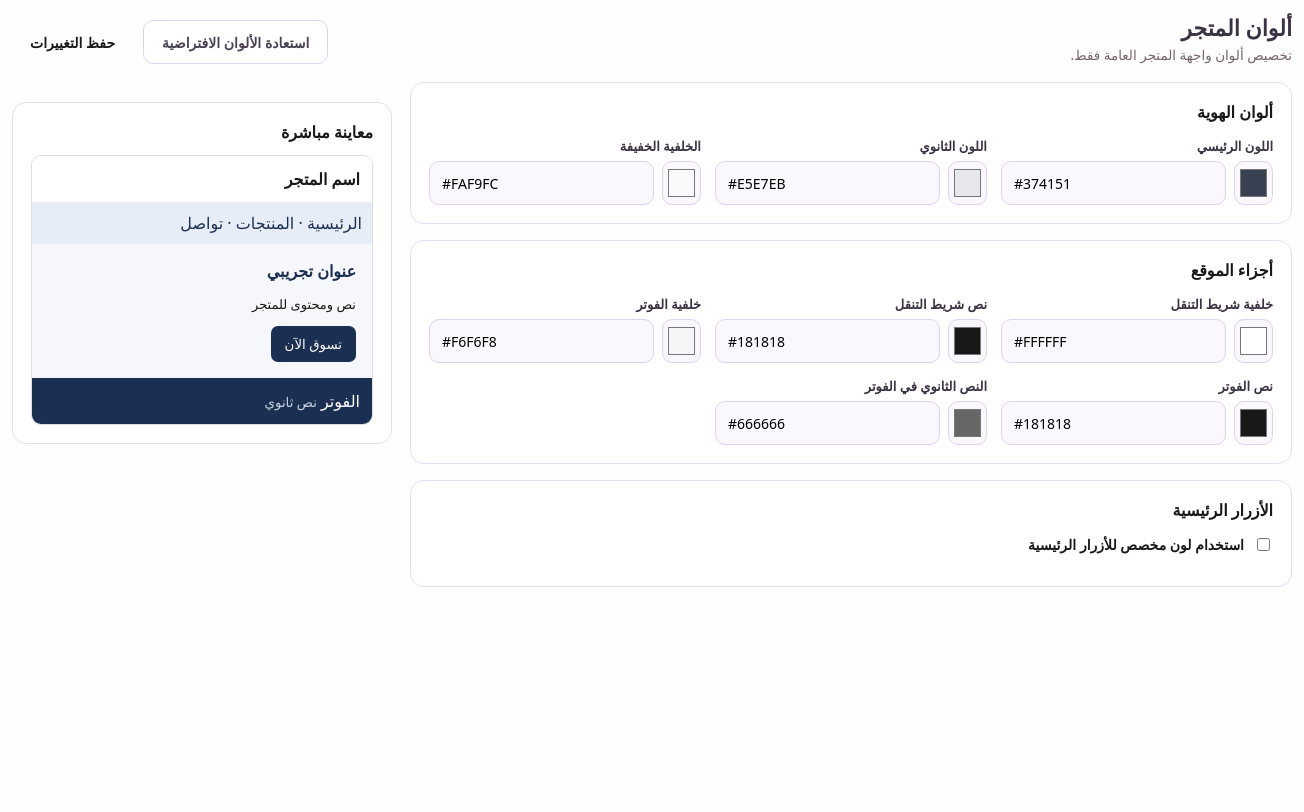
Test case: ألوان المتجر › warns for low contrast without disabling Save, while invalid HEX still blocks it
Replace the text in the field named "نص شريط التنقل" with "#FFFFFF" at (828, 341), box [715,319,940,363]
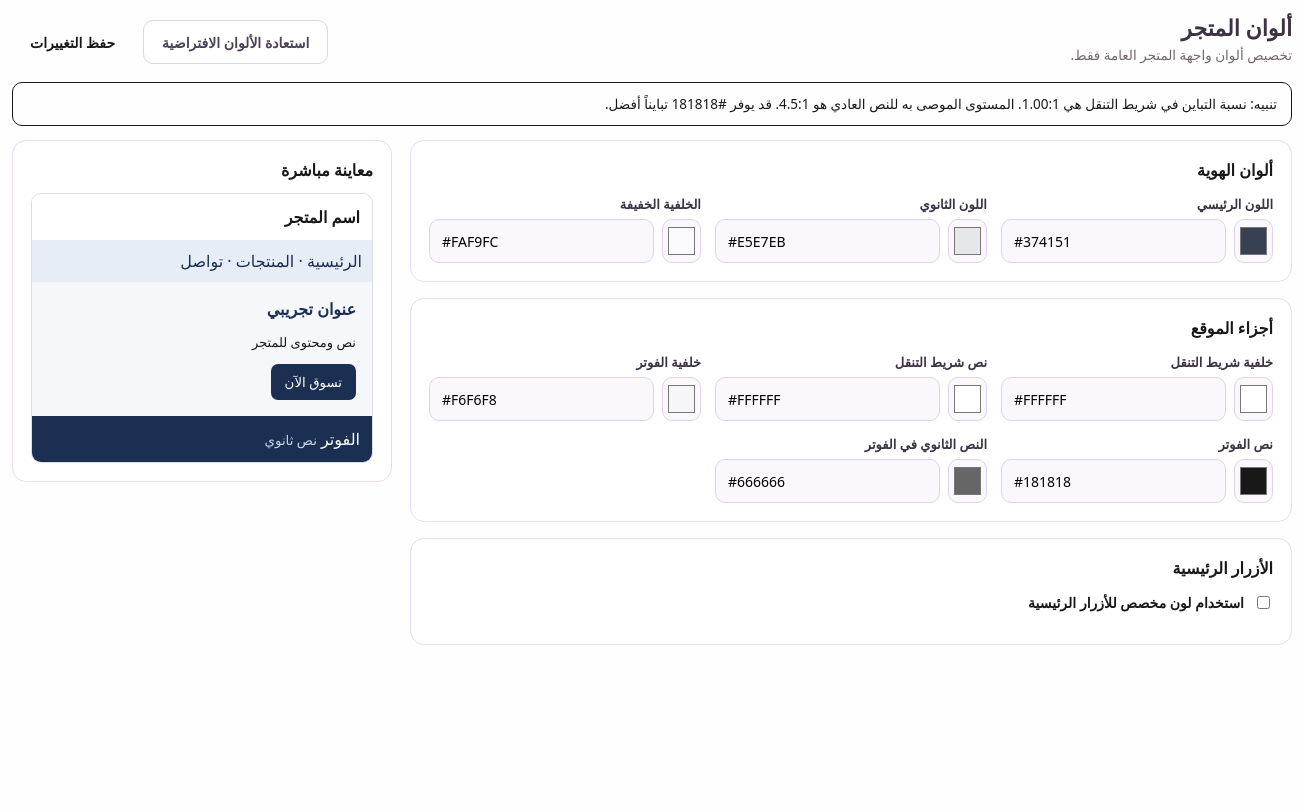
Expected: the button "حفظ التغييرات" is enabled, [12,20,133,64]
Expected: the message shows "4.5:1", [775,95,1060,113]
Replace the text in the field named "نص شريط التنقل" with "#FFF" at (828, 399), box [715,377,940,421]
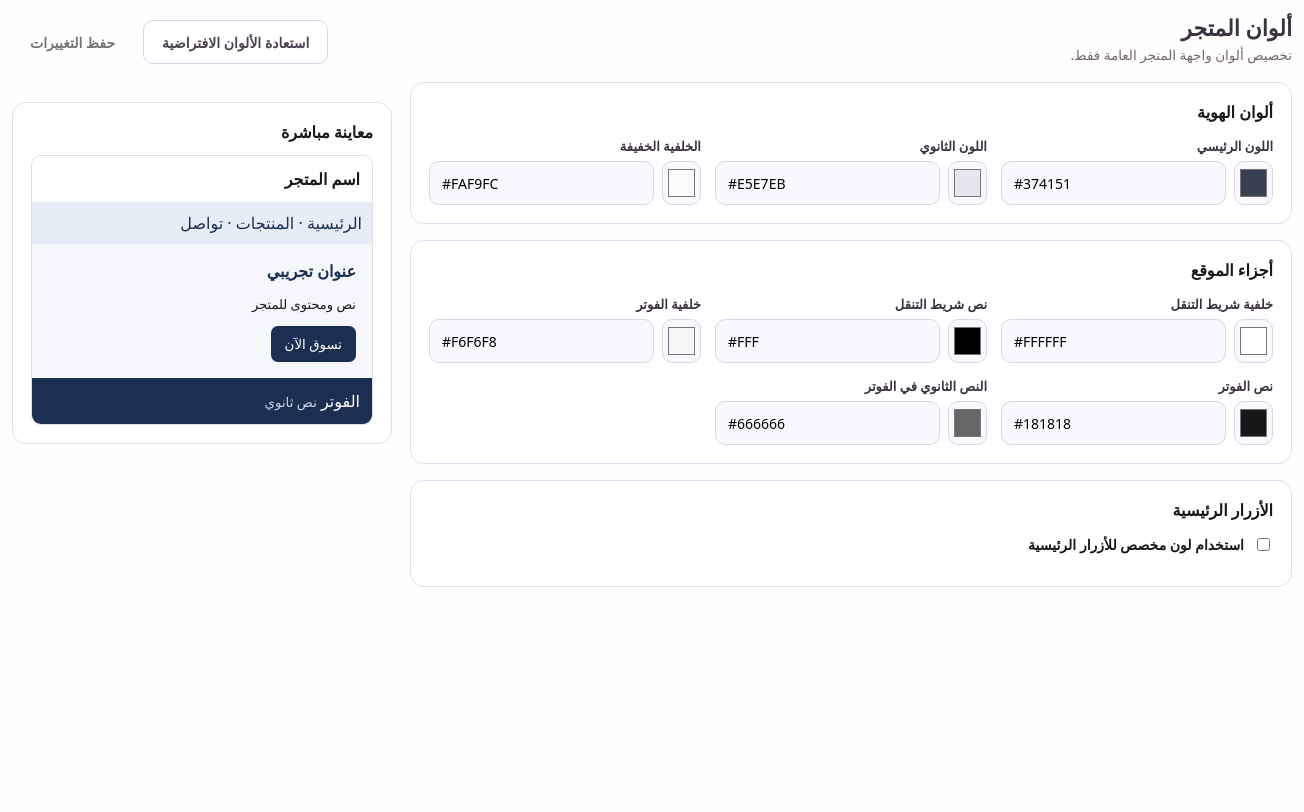
Expected: the button "حفظ التغييرات" is disabled, [12,20,133,64]
